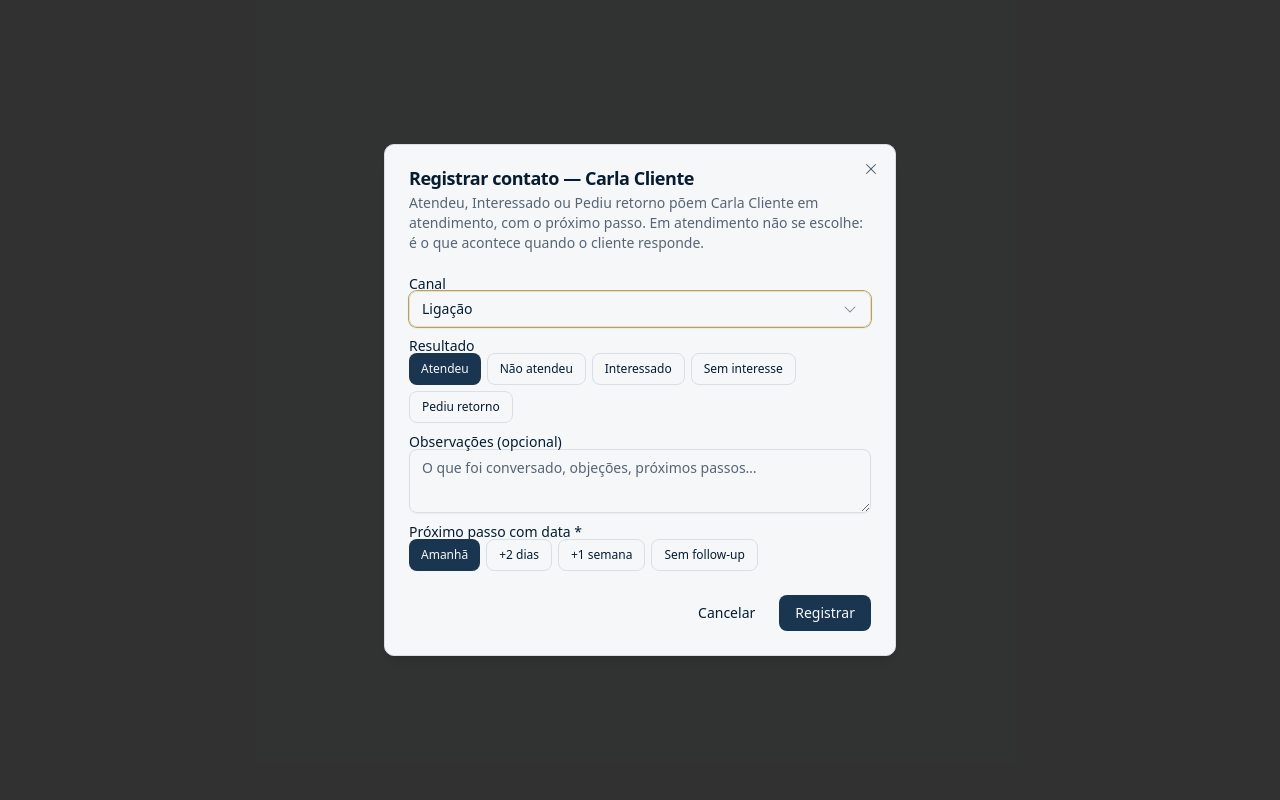
Test: RegistrarContatoDialog › antes de Em atendimento explica a consequência e exige passo com data quando o cliente respondeu
The width and height of the screenshot is (1280, 800).
Expected: the text with test id "contato-consequencia" shows "não se escolhe", [409,193,863,252]
Expected: the text "Próximo passo com data *" is shown, [409,522,582,541]
// "Sem follow-up" com o cliente respondendo: nada de registrar sem passo.
Click the radio button labelled "Sem follow-up": (705, 555) [652,539,758,571]
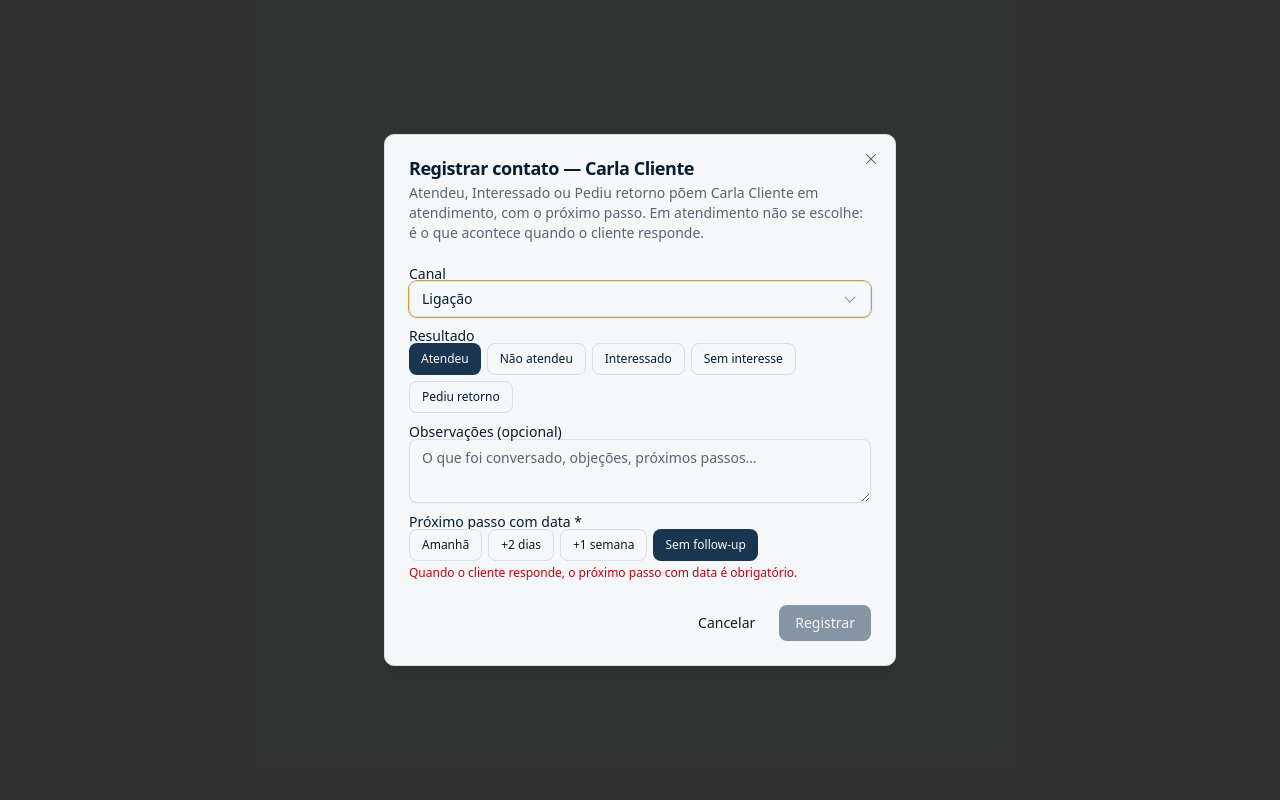
Now the text with test id "contato-sem-passo" is shown, box [409,564,797,581]
Now the button "Registrar" is disabled, box [779,605,871,641]
// "Não atendeu" não entra: o passo volta a ser opcional.
Click the radio button labelled "Não atendeu": (536, 359) [487,343,586,375]
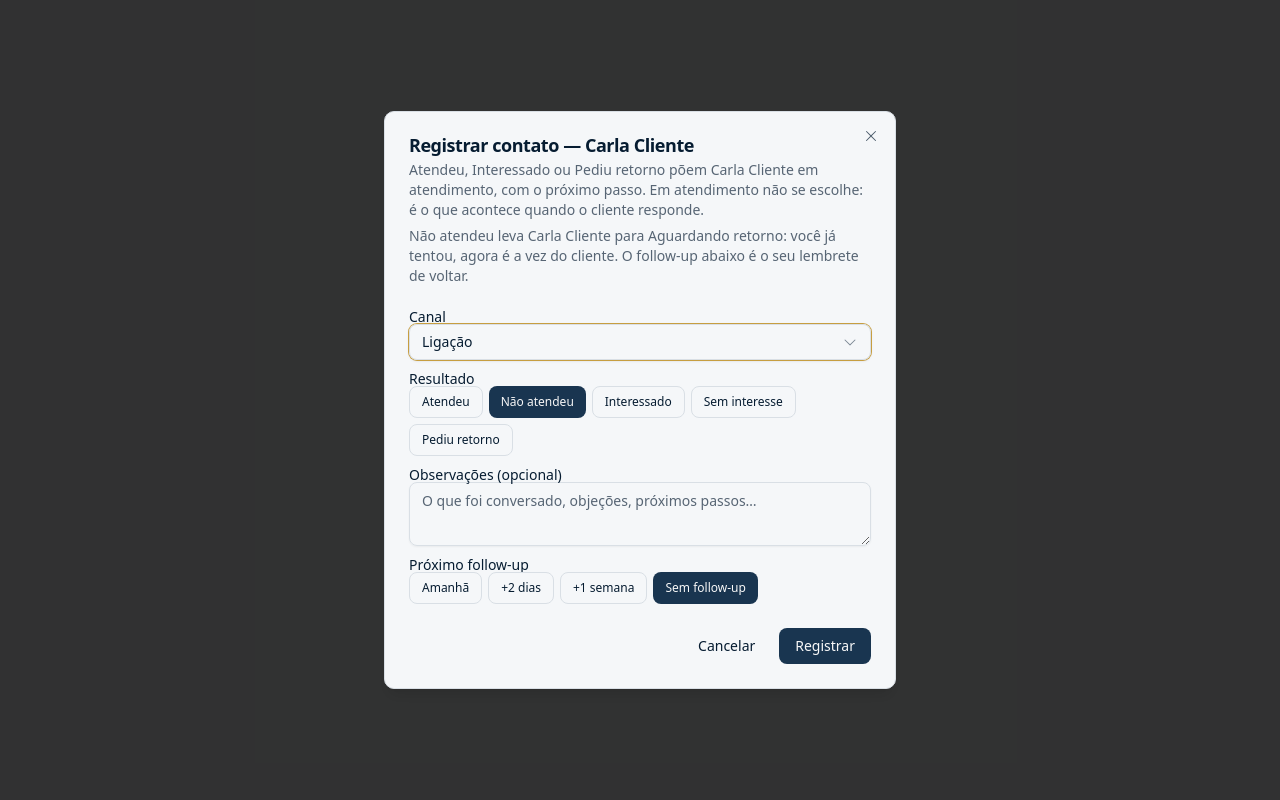
Now the text with test id "contato-sem-passo" is gone
Now the button "Registrar" is enabled, box [779,628,871,664]
